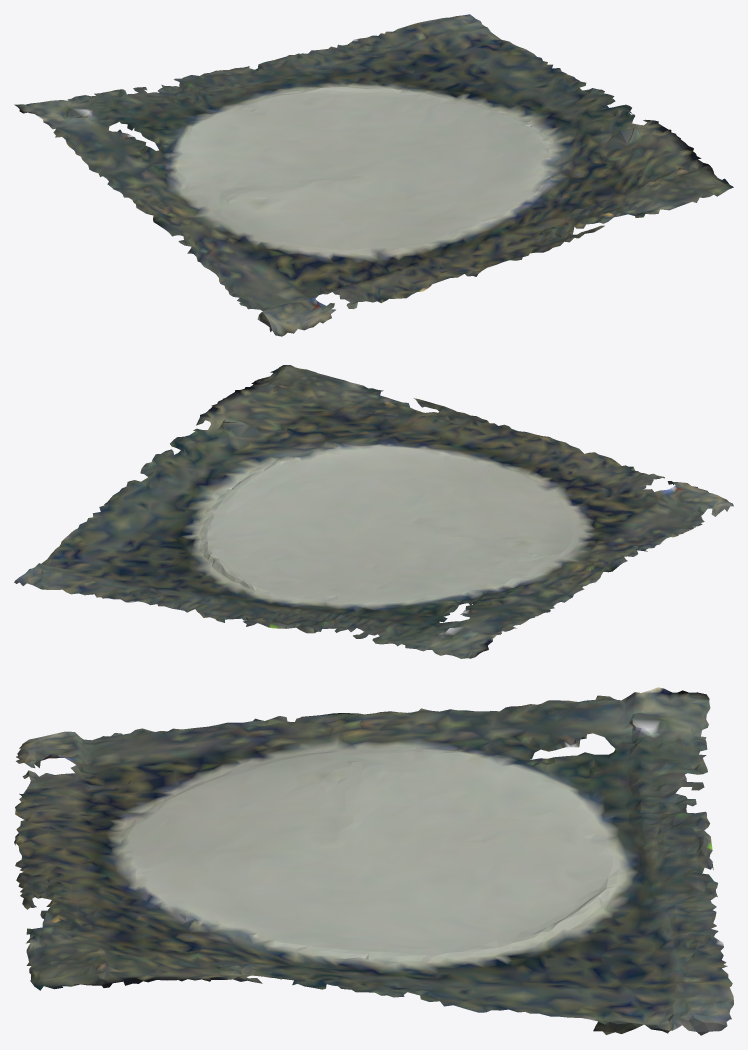
Rendered from scan.obj.
The picture shows the model from 3 angles, top to bottom: view 1: azimuth 30°, elevation 25°; view 2: azimuth 150°, elevation 25°; view 3: azimuth 270°, elevation 25°; orthographic projection. The views are drawn at different scales.
Parts seen in each view (by area): view 1: scan.ply; view 2: scan.ply; view 3: scan.ply.
Part boxes in pixels (x1,y1,x2,y2): scan.ply: (14, 14, 733, 336); scan.ply: (14, 365, 733, 658); scan.ply: (14, 687, 733, 1035).
Bounding box in the file's own units: 0.1212 × 0.0111 × 0.1248.
